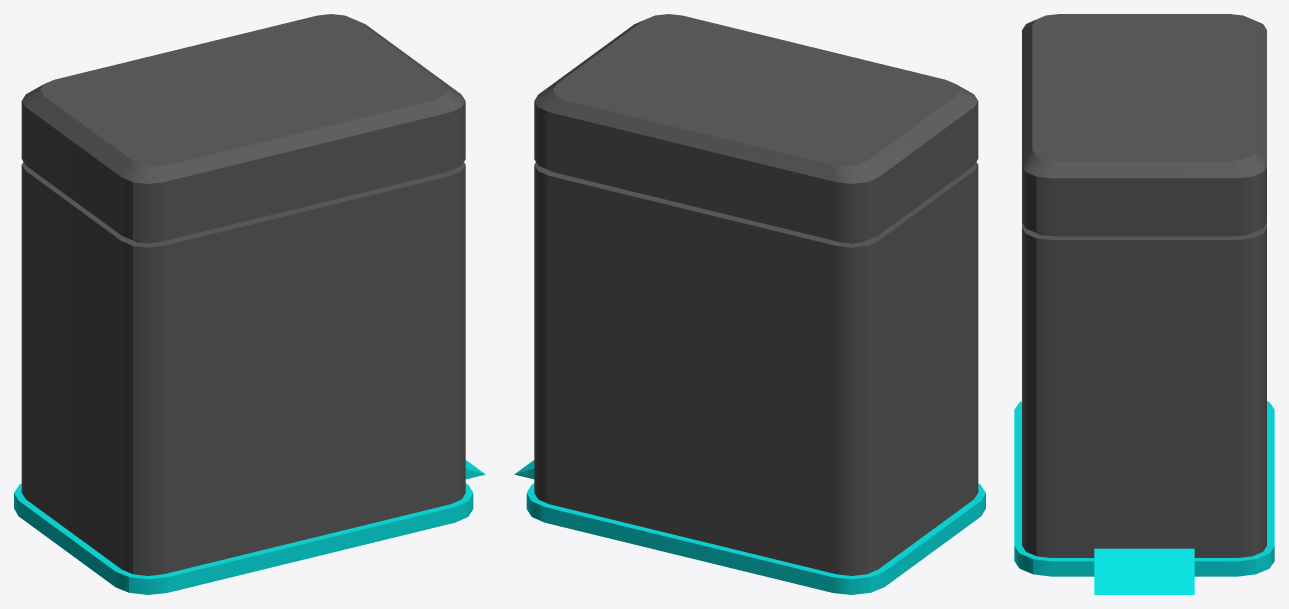
File: B_Trashcan.fbx
3 views of the same model, side by side, from view 1: azimuth 30°, elevation 25°; view 2: azimuth 150°, elevation 25°; view 3: azimuth 270°, elevation 25° (orthographic). The views are drawn at different scales.
Visible parts, largest first — view 1: B_trash; view 2: B_trash; view 3: B_trash.
Boxes of the visible parts, x1,y1,x2,y2 form: B_trash: (14, 14, 485, 594); B_trash: (514, 14, 985, 594); B_trash: (1014, 14, 1274, 594).
Bounding box in the file's own units: 39.49 × 40.19 × 23.4.
